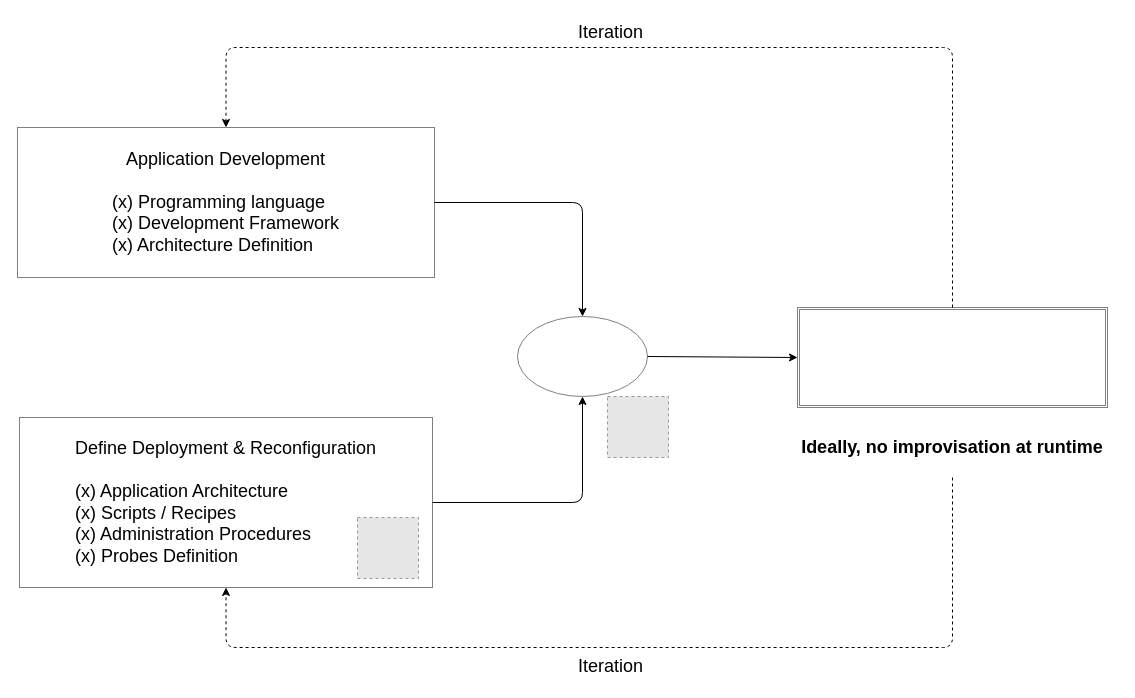
Some shapes in this 1135 by 698 pixel diagram are drawn without their labels. Grey dashed boxes stand in for pictures. The shapes that lost their labels are listed below. From the top down, each one's box as (x1, y1, x2, y2) in pixels, then its label:
(516, 316, 648, 396): Roboconf Application
(796, 306, 1108, 408): Test / Production Environment(s)
